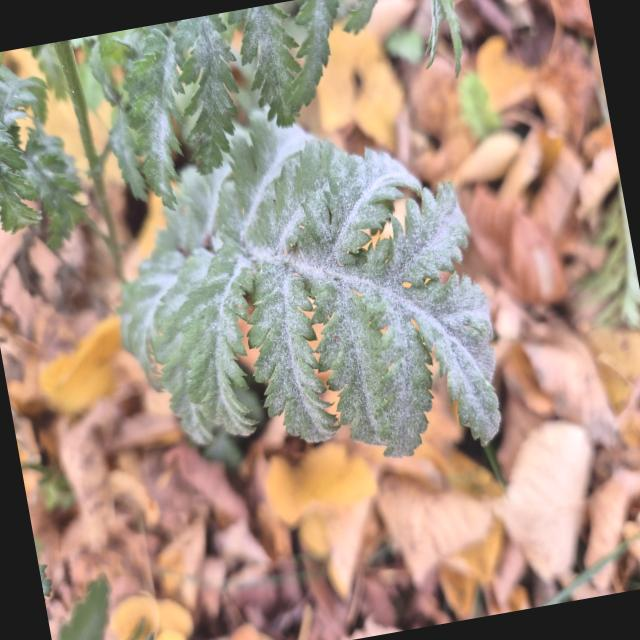powdery_mildew: (120, 113, 499, 456)
